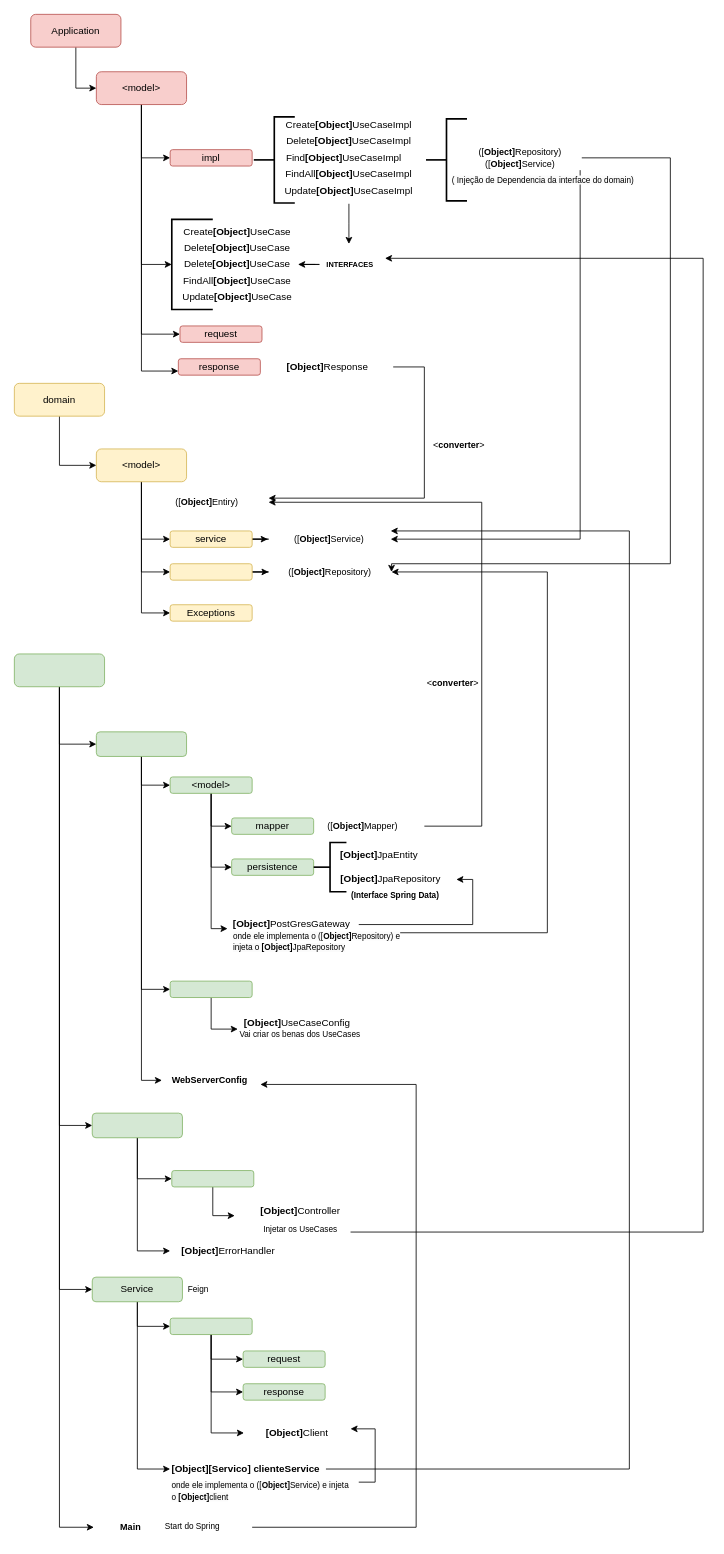
Some shapes in this 724 by 1554 pixel diagram are drawn without their labels. Here are the shapes that lost their labels. From the top down, the box of each, then its label:
(169, 563, 252, 580): repository
(14, 653, 105, 687): Infrastructure
(96, 731, 187, 756): Configuration
(169, 980, 252, 998): UseCases
(91, 1112, 182, 1138): Api
(171, 1170, 254, 1187): Controller
(169, 1317, 252, 1335): Client
